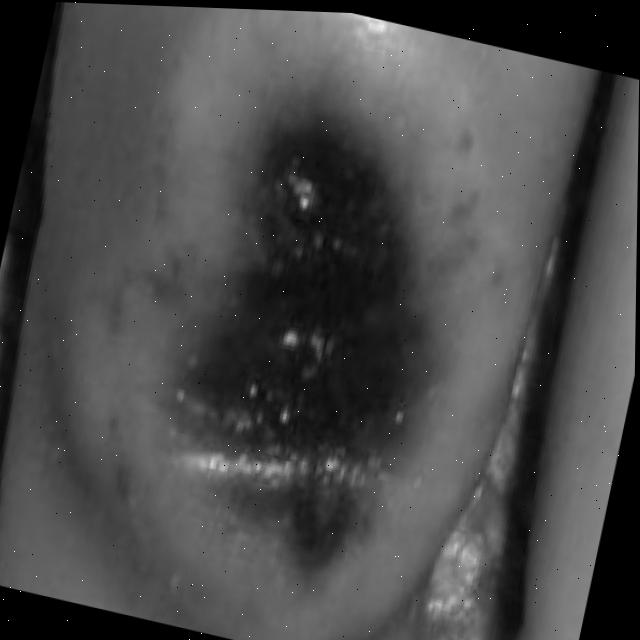Eczema: (141, 103, 501, 584)
